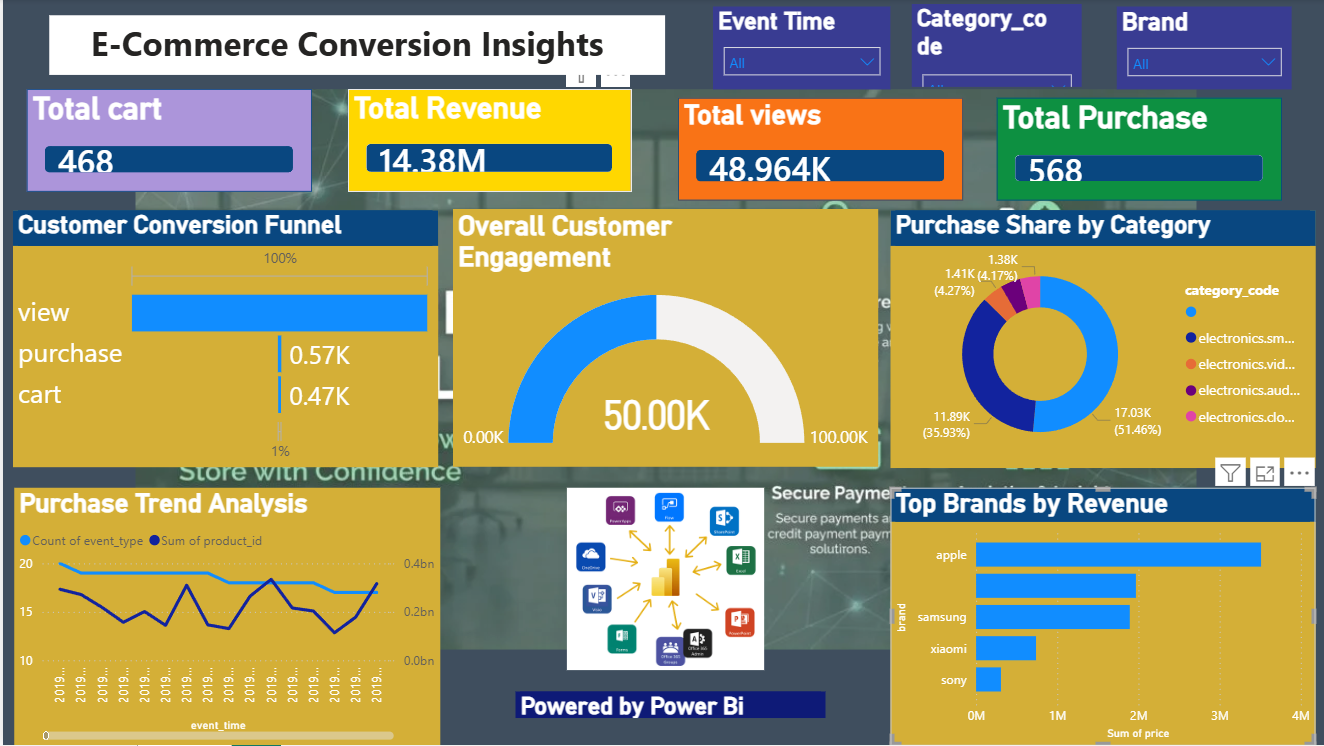

The dashboard page shown, as its layout file describes it:
{"tool":"powerbi","page":{"name":"Page 1","canvas":[1280,720],"ordinal":0},"visuals":[{"type":"slicer","title":"Category_code","fields":{"Values":["sample_ecommerce_data.category_code"]},"box":[877.1,4.8,164.1,79.6],"z":0},{"type":"slicer","title":"Event Time","fields":{"Values":["sample_ecommerce_data.event_time"]},"box":[685.3,7.2,171.3,79.6],"z":1000},{"type":"slicer","title":"Brand","fields":{"Values":["sample_ecommerce_data.brand"]},"box":[1074.9,7.2,168.9,79.6],"z":2000},{"type":"cardVisual","title":"Total views","fields":{"Data":["CountNonNull(sample_ecommerce_data.event_type)"]},"box":[651.5,95.3,275.1,98.9],"z":3000},{"type":"cardVisual","title":" Total cart    ","fields":{"Data":["CountNonNull(sample_ecommerce_data.event_type)"]},"box":[22.9,86.9,275.1,98.9],"z":4000},{"type":"cardVisual","title":"Total Purchase   ","fields":{"Data":["CountNonNull(sample_ecommerce_data.event_type)"]},"box":[959.1,95.3,275.1,98.9],"z":5000},{"type":"cardVisual","title":"Total Revenue ","fields":{"Data":["Sum(sample_ecommerce_data.price)"]},"box":[333,86.9,273.9,98.9],"z":6000},{"type":"funnel","title":"Customer Conversion Funnel","fields":{"Category":["sample_ecommerce_data.event_type"],"Y":["CountNonNull(sample_ecommerce_data.event_type)"]},"box":[9.6,204.5,410,248],"z":7000},{"type":"donutChart","title":"Purchase Share by Category","fields":{"Category":["sample_ecommerce_data.category_code"],"Y":["CountNonNull(sample_ecommerce_data.event_type)"]},"box":[856.6,203.9,410.2,248.5],"z":8000},{"type":"clusteredBarChart","title":"Top Brands by Revenue","fields":{"Category":["sample_ecommerce_data.brand"],"Y":["Sum(sample_ecommerce_data.price)"]},"box":[856.6,471.7,410.2,248.5],"z":9000},{"type":"lineChart","title":"Purchase Trend Analysis","fields":{"Category":["sample_ecommerce_data.event_time"],"Y":["CountNonNull(sample_ecommerce_data.event_type)"],"Y2":["Sum(sample_ecommerce_data.product_id)"]},"box":[10.9,471.7,411.4,248.5],"z":10000},{"type":"gauge","title":"Overall Customer Engagement","fields":{"Y":["CountNonNull(sample_ecommerce_data.event_type)"]},"box":[434.3,202.7,410.2,248.5],"z":11000},{"type":"image","box":[494.6,471.7,289.5,176.1],"z":12000},{"type":"textbox","title":"Powered by Power Bi","box":[494.6,668.4,299.2,25.3],"z":13000},{"type":"textbox","box":[44.6,15.7,594.8,57.9],"z":14000}]}

Visuals, with their boxes in screenshot pixels (x1, y1, x2, y2), scaled from the page's 1280x720 canvas onto the 1324x746 screenshot:
"Category_code" slicer: (907, 5, 1077, 87)
"Event Time" slicer: (709, 7, 886, 90)
"Brand" slicer: (1112, 7, 1287, 90)
"Total views" cardVisual: (674, 99, 958, 201)
" Total cart    " cardVisual: (24, 90, 308, 193)
"Total Purchase   " cardVisual: (992, 99, 1277, 201)
"Total Revenue " cardVisual: (344, 90, 628, 193)
"Customer Conversion Funnel" funnel: (10, 212, 434, 469)
"Purchase Share by Category" donutChart: (886, 211, 1310, 469)
"Top Brands by Revenue" clusteredBarChart: (886, 489, 1310, 745)
"Purchase Trend Analysis" lineChart: (11, 489, 437, 745)
"Overall Customer Engagement" gauge: (449, 210, 874, 467)
image: (512, 489, 811, 671)
"Powered by Power Bi" textbox: (512, 693, 821, 719)
textbox: (46, 16, 661, 76)
